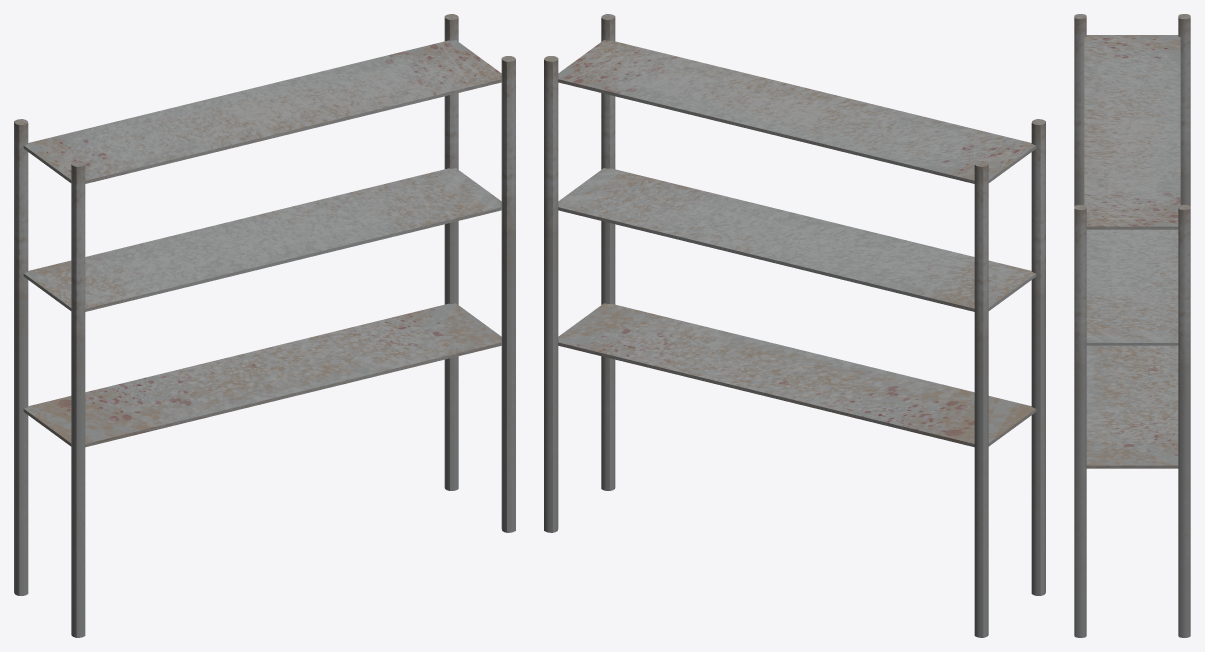
File: Prop_Metal_Storage.fbx
3 renders of one model, left to right at view 1: azimuth 30°, elevation 25°; view 2: azimuth 150°, elevation 25°; view 3: azimuth 270°, elevation 25°, orthographic. The views are drawn at different scales.
Visible parts, largest first — view 1: Metal_Storage; view 2: Metal_Storage; view 3: Metal_Storage.
Boxes of the visible parts, left/top/right/bottom form: Metal_Storage: left=14, top=14, right=515, bottom=637; Metal_Storage: left=544, top=14, right=1045, bottom=637; Metal_Storage: left=1074, top=14, right=1190, bottom=637.
Bounding box in the file's own units: 182 × 186 × 45.76.
